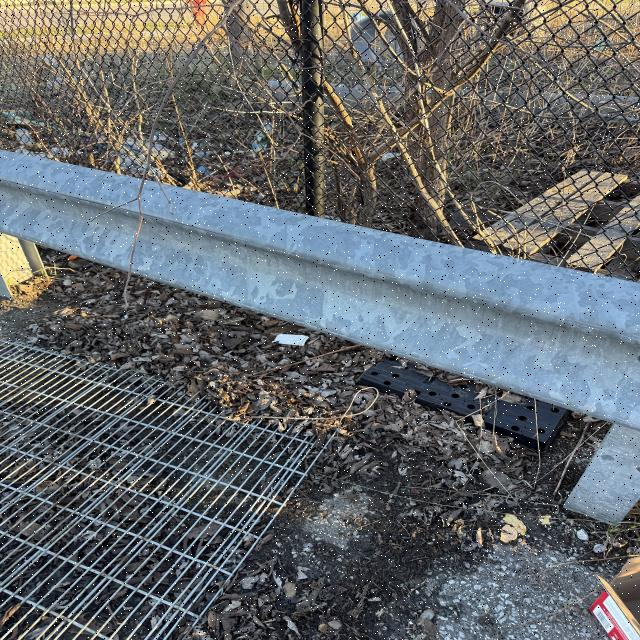Guard rail: (0, 174, 612, 365)
